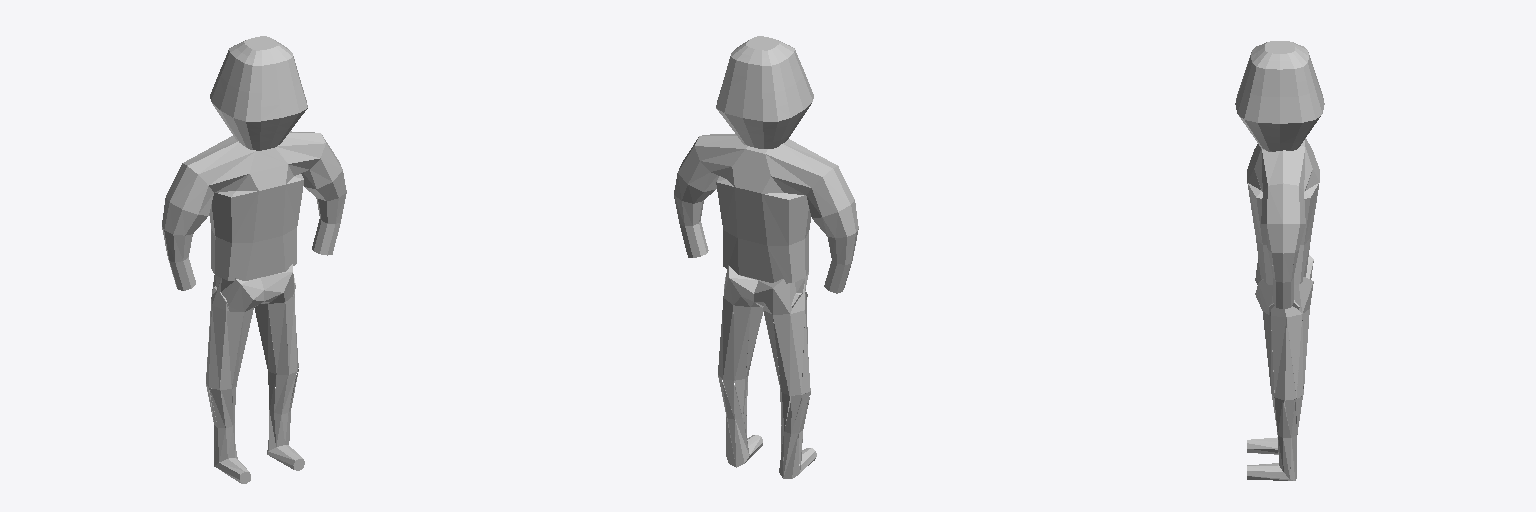
The model's file is futuremen.obj.
3 views of the same model, side by side, from view 1: azimuth 30°, elevation 25°; view 2: azimuth 150°, elevation 25°; view 3: azimuth 270°, elevation 25° (orthographic).
Visible parts, largest first — view 1: Mesh_0.001; view 2: Mesh_0.001; view 3: Mesh_0.001.
Part boxes in pixels (x1,y1,x2,y2): Mesh_0.001: (162,36,346,483); Mesh_0.001: (674,36,858,478); Mesh_0.001: (1235,41,1324,480).
Size of the model in its own units: 1.01 by 2.27 by 0.4354.